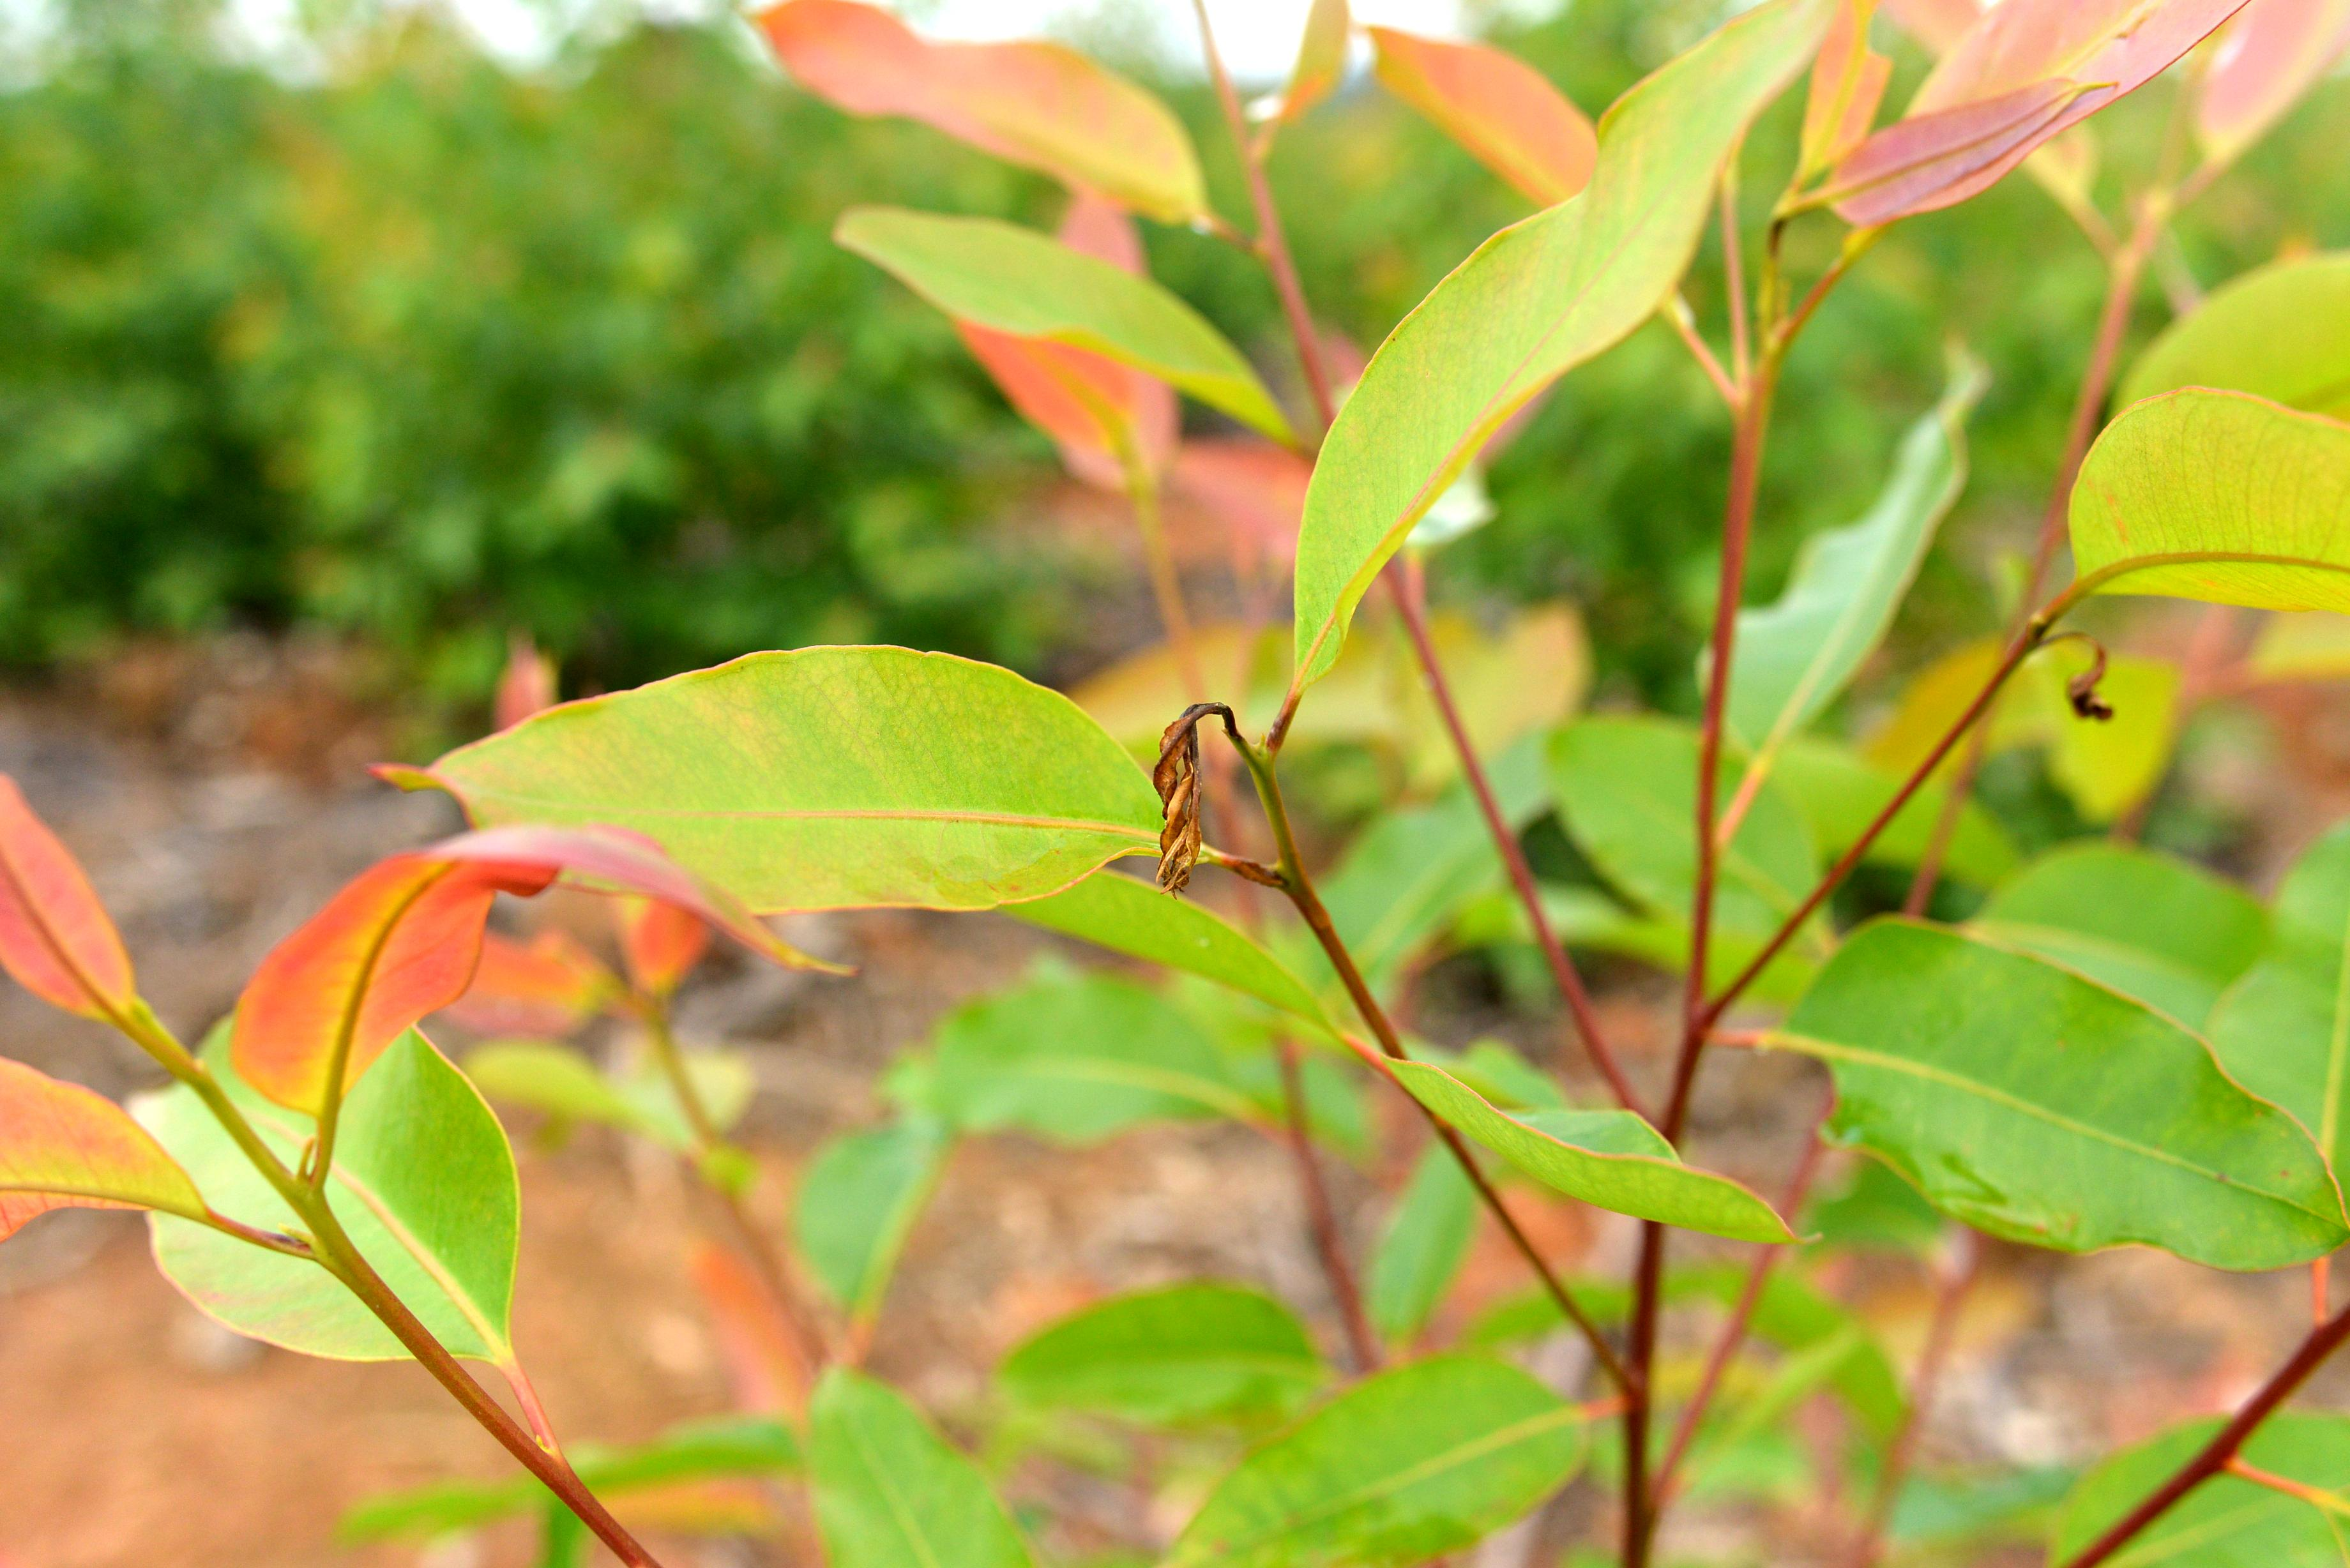Helopeltis-Withered Sprout: (1153, 700, 1230, 905), (2060, 640, 2121, 724)
